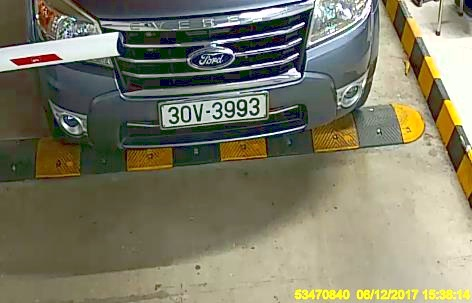plate: (155, 90, 273, 126)
